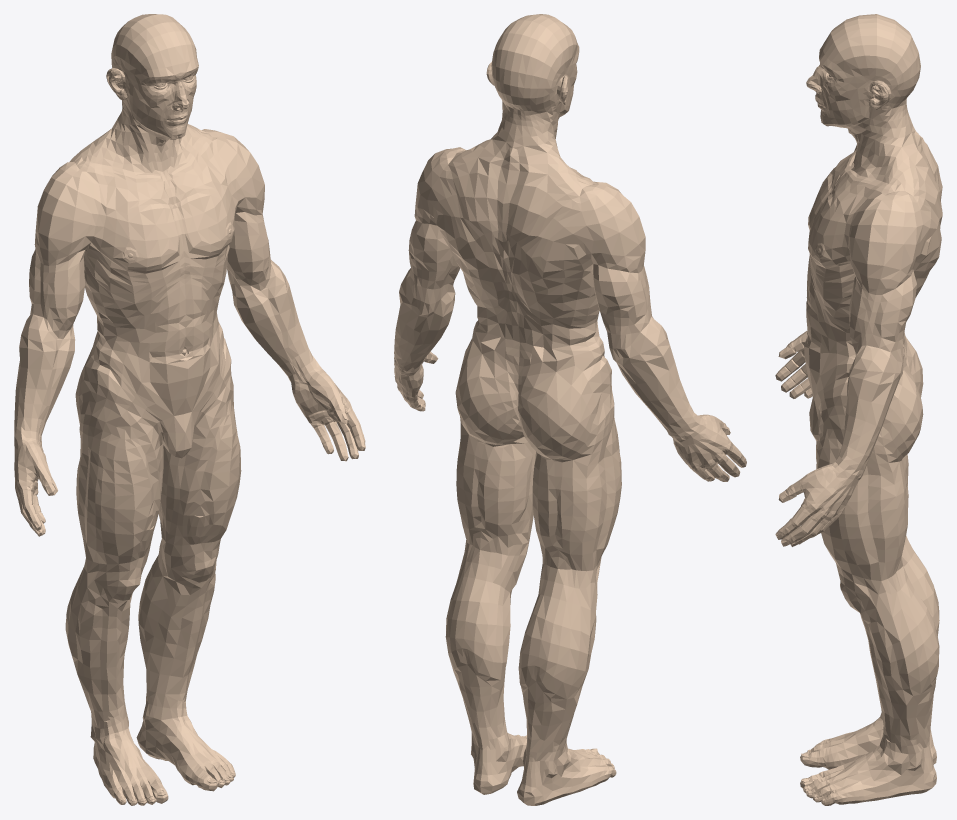
Rendered from Human.fbx.
3 views of the same model, side by side, from view 1: azimuth 30°, elevation 25°; view 2: azimuth 150°, elevation 25°; view 3: azimuth 270°, elevation 25° (orthographic).
Visible parts, largest first — view 1: body; view 2: body; view 3: body.
Part boxes in pixels (x1,y1,x2,y2): body: [14, 14, 365, 805]; body: [394, 14, 746, 805]; body: [775, 14, 942, 805].
Size of the model in its own units: 34.77 by 74.82 by 14.9.
